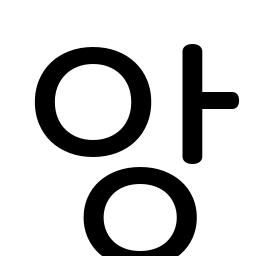Gaji: (170, 79, 217, 128)
